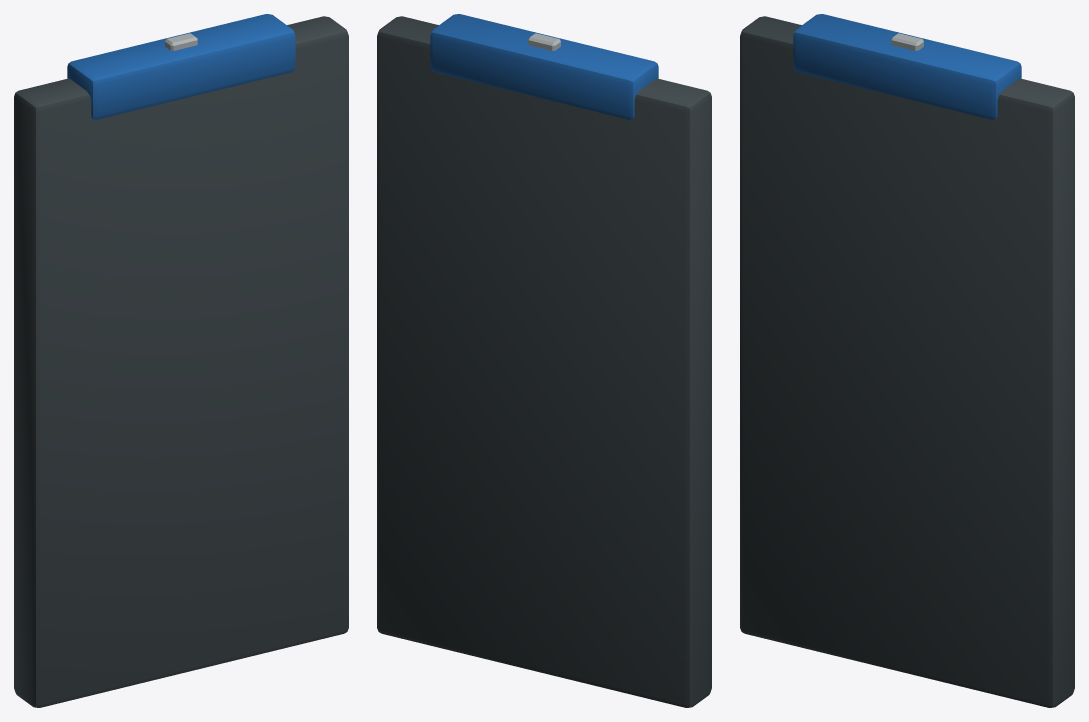
The model's file is sc-lead-apron.glb.
3 renders of one model, left to right at view 1: azimuth 30°, elevation 25°; view 2: azimuth 150°, elevation 25°; view 3: azimuth 330°, elevation 25°, orthographic.
Parts seen in each view (by area): view 1: sc-lead-apron; view 2: sc-lead-apron; view 3: sc-lead-apron.
Part boxes in pixels (<box>): sc-lead-apron: <box>14,14,348,707</box>; sc-lead-apron: <box>377,14,711,707</box>; sc-lead-apron: <box>740,14,1074,707</box>.
Bounding box in the file's own units: 0.46 × 0.87 × 0.07.
